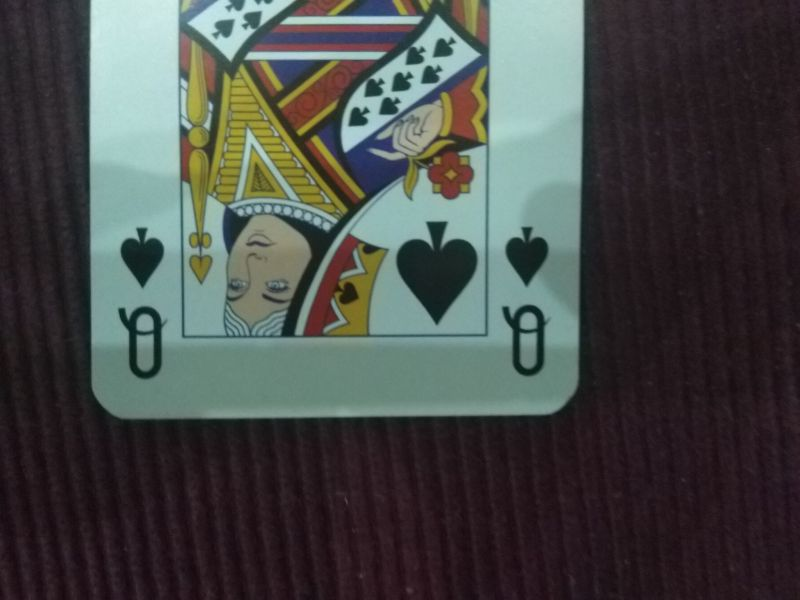Qs: (107, 222, 176, 387), (495, 222, 557, 382)
